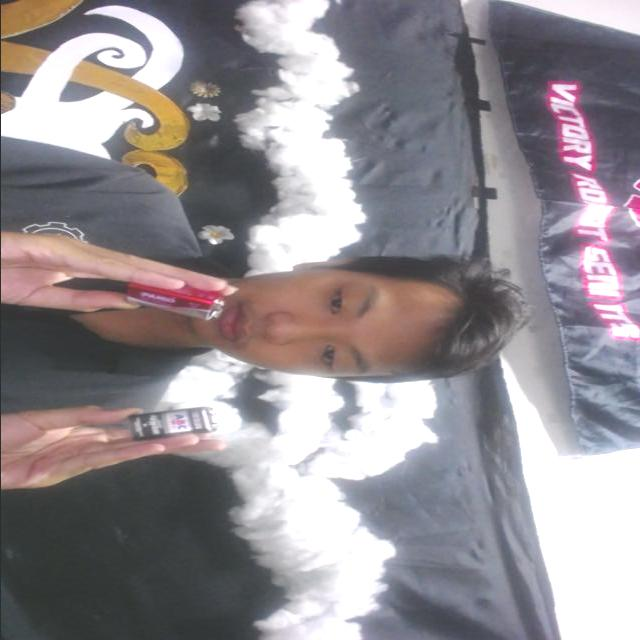9V: (115, 398, 226, 451), (112, 276, 248, 319)
